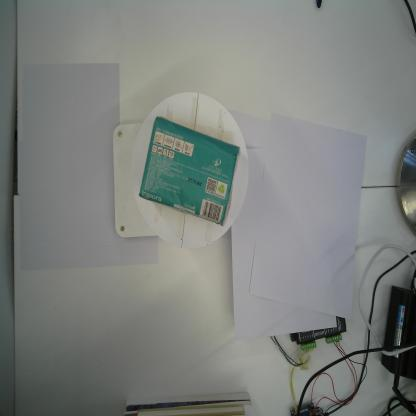Tissue: (138, 115, 240, 227)
